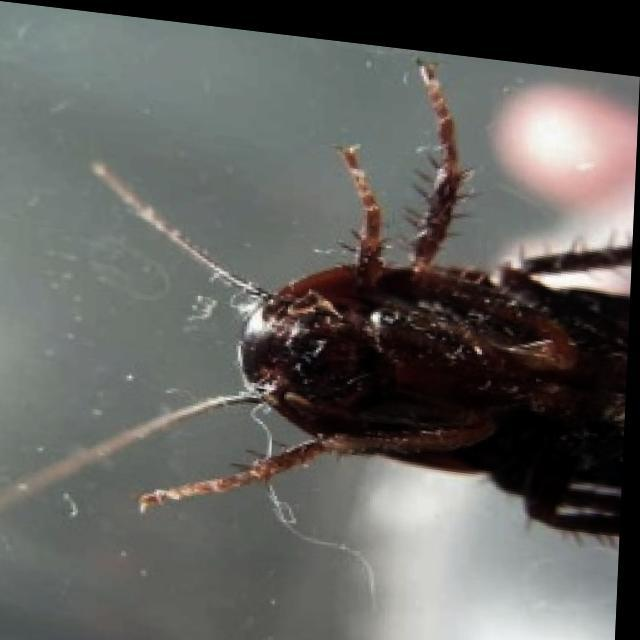cockroach: (92, 128, 640, 550)
